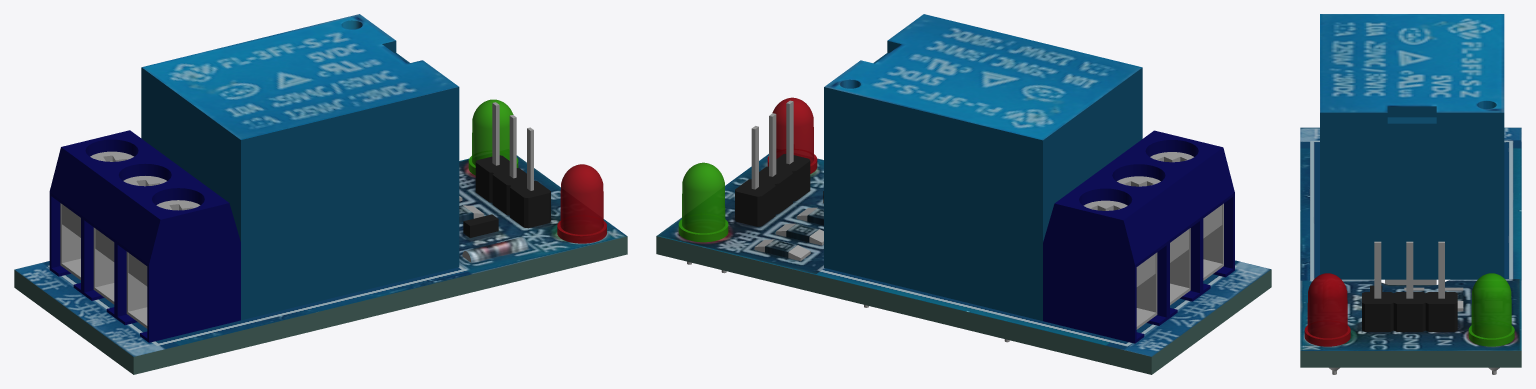
Rendered from relay.glb.
3 views of the same model, side by side, from view 1: azimuth 30°, elevation 25°; view 2: azimuth 150°, elevation 25°; view 3: azimuth 270°, elevation 25° (orthographic). The views are drawn at different scales.
Parts seen in each view (by area): view 1: relay, Sphere; view 2: relay, Sphere; view 3: relay, Sphere.
Part boxes in pixels (x1=…): relay: x1=14, y1=14, x2=627, y2=374; Sphere: x1=468, y1=99, x2=606, y2=243; relay: x1=656, y1=14, x2=1271, y2=374; Sphere: x1=678, y1=97, x2=817, y2=242; relay: x1=1300, y1=14, x2=1521, y2=374; Sphere: x1=1304, y1=273, x2=1514, y2=346.
Bounding box in the file's own units: 4.3 × 1.78 × 1.8.
Materials: 12 (3 with a texture image).
